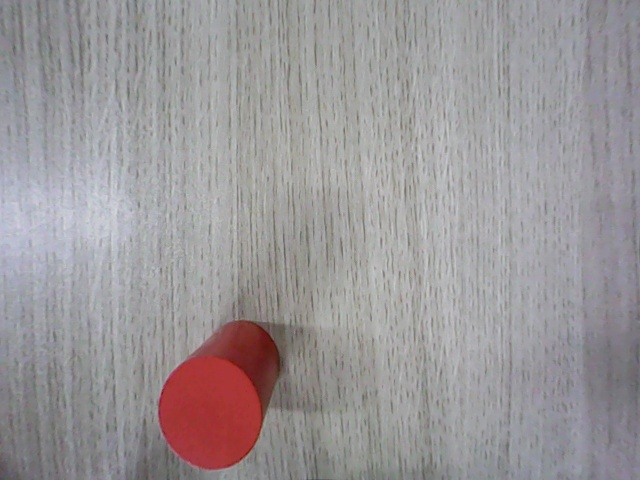upside of cylinder: (157, 356, 263, 470)
